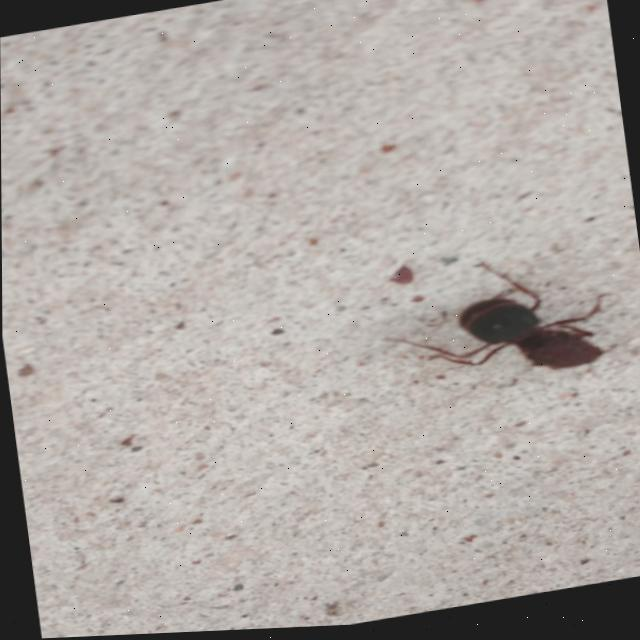Alive-Female-Dealate: (374, 245, 620, 410)
